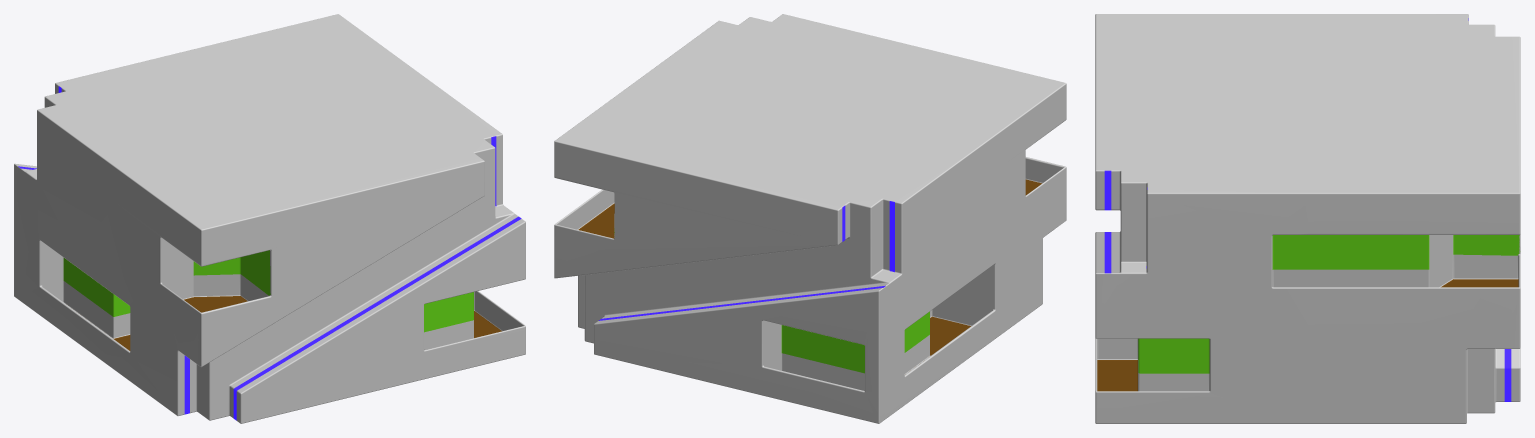
The model's file is SM_B_i3_floor2.fbx.
The picture shows the model from 3 angles, left to right: view 1: azimuth 30°, elevation 25°; view 2: azimuth 150°, elevation 25°; view 3: azimuth 270°, elevation 25°; orthographic projection. The views are drawn at different scales.
Parts seen in each view (by area): view 1: Bil3_Base_floor2; view 2: Bil3_Base_floor2; view 3: Bil3_Base_floor2.
Boxes of the visible parts, x1,y1,x2,y2 form: Bil3_Base_floor2: (14, 14, 525, 423); Bil3_Base_floor2: (554, 14, 1066, 423); Bil3_Base_floor2: (1095, 14, 1520, 423).
Bounding box in the file's own units: 1717 × 1030 × 1717.
